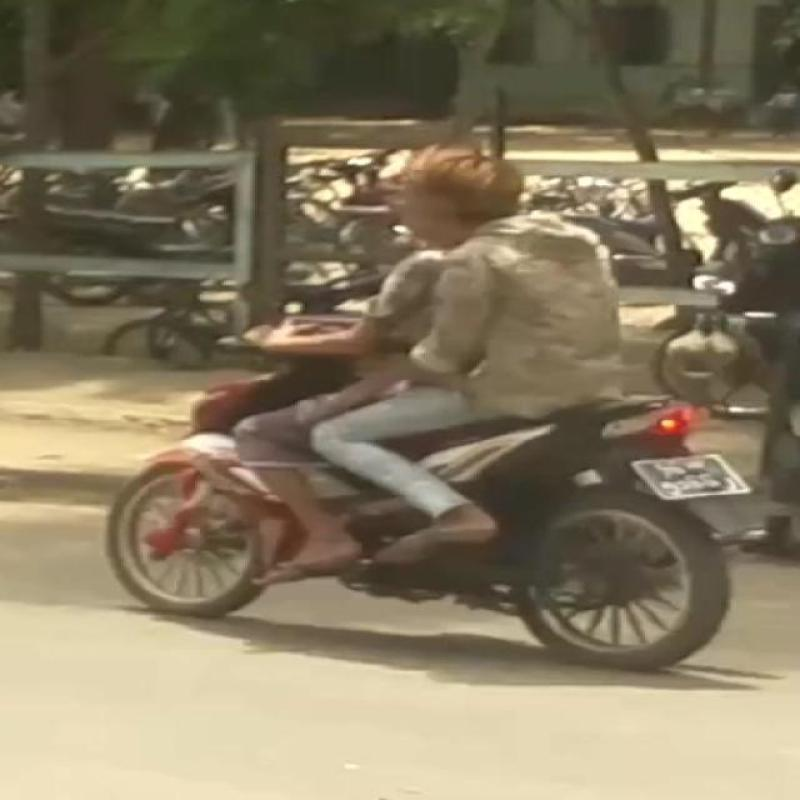nohelmet: (375, 136, 610, 226)
